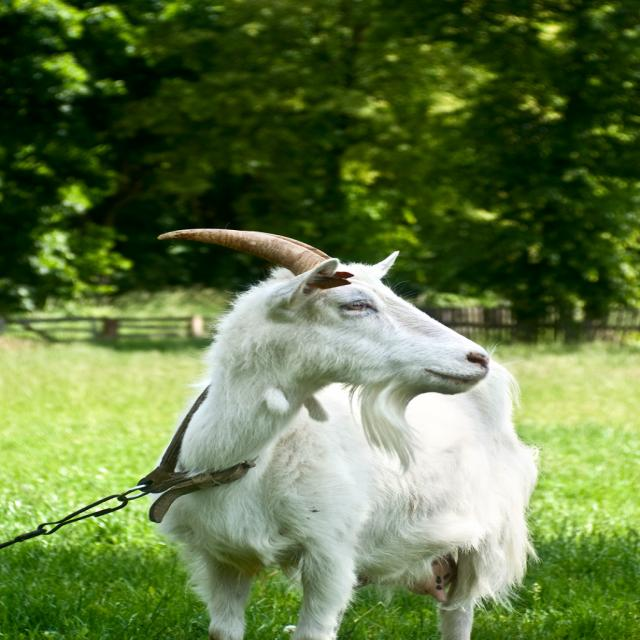Goat: (156, 228, 541, 640)
